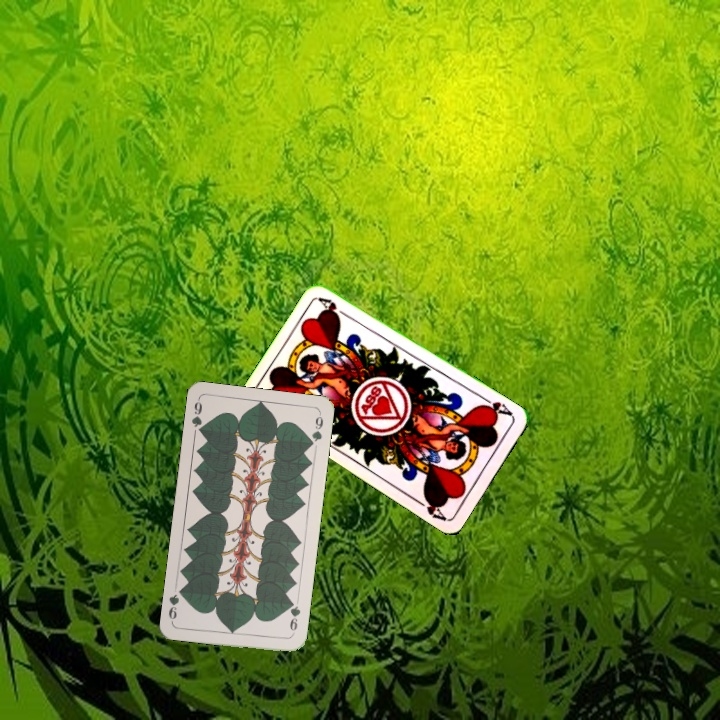G9: (187, 396, 206, 437), (285, 597, 303, 638)
HA: (476, 393, 515, 419)
